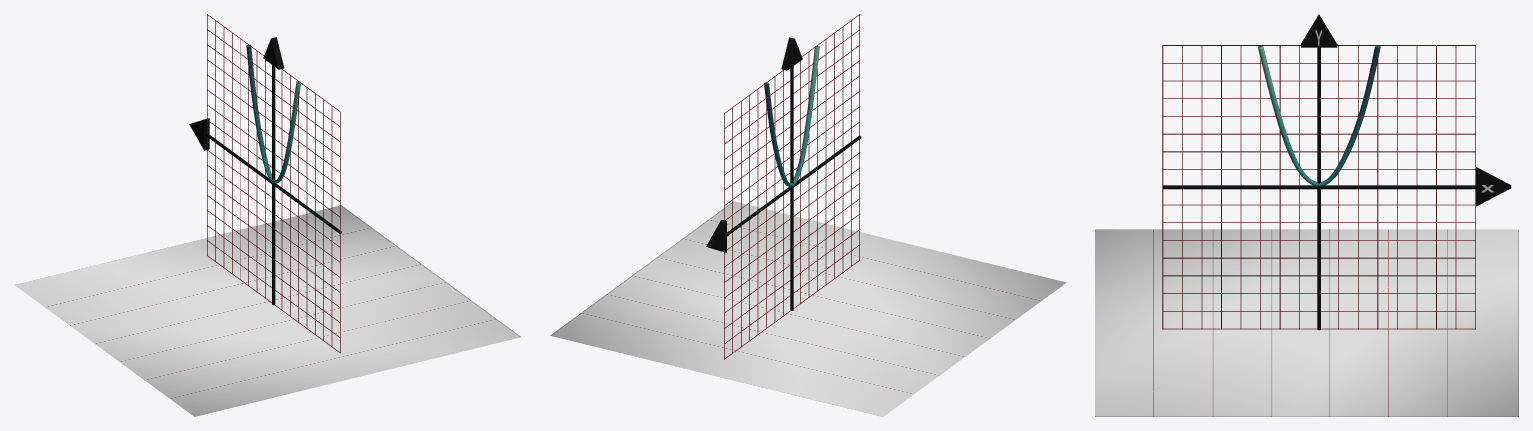
The model's file is y=x^2+k mayor.fbx.
3 views of the same model, side by side, from view 1: azimuth 30°, elevation 25°; view 2: azimuth 150°, elevation 25°; view 3: azimuth 270°, elevation 25° (orthographic). The views are drawn at different scales.
Visible parts, largest first — view 1: plane:pPlane1, parabola_unfold3d:Mesh, pCylinder37, pCylinder36, pCylinder19, pCylinder23; view 2: plane:pPlane1, parabola_unfold3d:Mesh, pCylinder37, pCylinder36, pCylinder23, pCylinder22; view 3: plane:pPlane1, parabola_unfold3d:Mesh, pCylinder36, pCylinder37, nueva_flecha_x:polySurface1, Nueva_flecha_y:polySurface1, pCylinder14, pCylinder10, pCylinder17, pCylinder13, pCylinder7, pCylinder3 (+8 smaller).
Part boxes in pixels (x1,y1,x2,y2): plane:pPlane1: (15,205,521,416); parabola_unfold3d:Mesh: (246,44,300,183); pCylinder37: (272,65,275,305); pCylinder36: (205,133,341,233); pCylinder19: (331,106,332,346); pCylinder23: (306,88,307,328); plane:pPlane1: (550,201,1066,416); parabola_unfold3d:Mesh: (764,46,819,186); pCylinder37: (790,66,793,310); pCylinder36: (727,136,861,236); pCylinder23: (825,39,826,284); pCylinder22: (842,27,843,272); plane:pPlane1: (1095,229,1518,416); parabola_unfold3d:Mesh: (1258,46,1380,186); pCylinder36: (1162,185,1475,189); pCylinder37: (1317,47,1320,330); nueva_flecha_x:polySurface1: (1476,167,1511,206); Nueva_flecha_y:polySurface1: (1301,14,1337,47); pCylinder14: (1163,275,1475,276); pCylinder10: (1162,204,1475,205); pCylinder17: (1162,328,1475,329); pCylinder13: (1162,257,1475,258); pCylinder7: (1163,151,1475,152); pCylinder3: (1163,80,1475,81).
Bounding box in the file's own units: 56.75 × 44.29 × 54.19.
